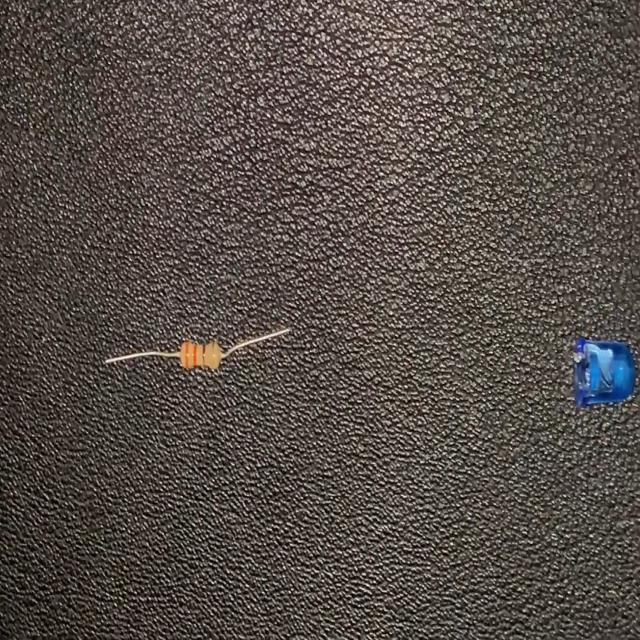faded: (210, 337, 218, 370)
missing-leg: (571, 335, 639, 409)
resistor: (103, 325, 293, 378)
